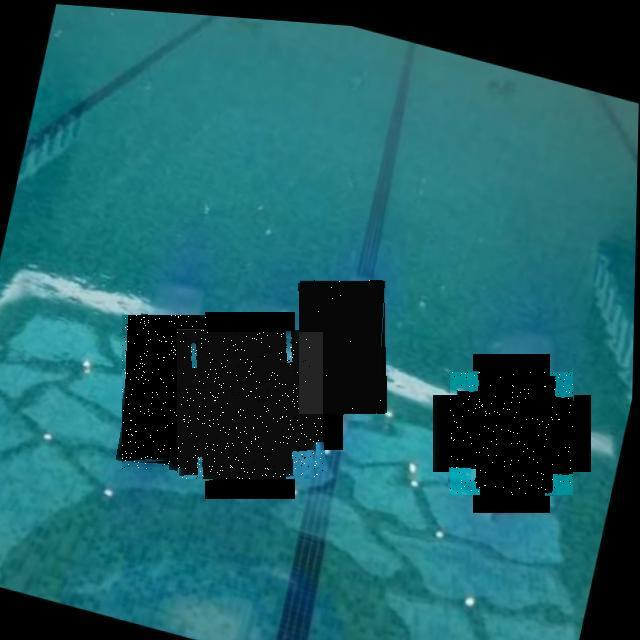swimming: (177, 332, 323, 479), (450, 372, 573, 495), (122, 316, 206, 470), (299, 280, 386, 414)
